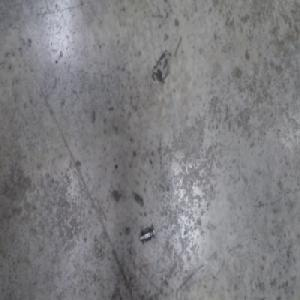Bolt: (139, 226, 155, 246)
